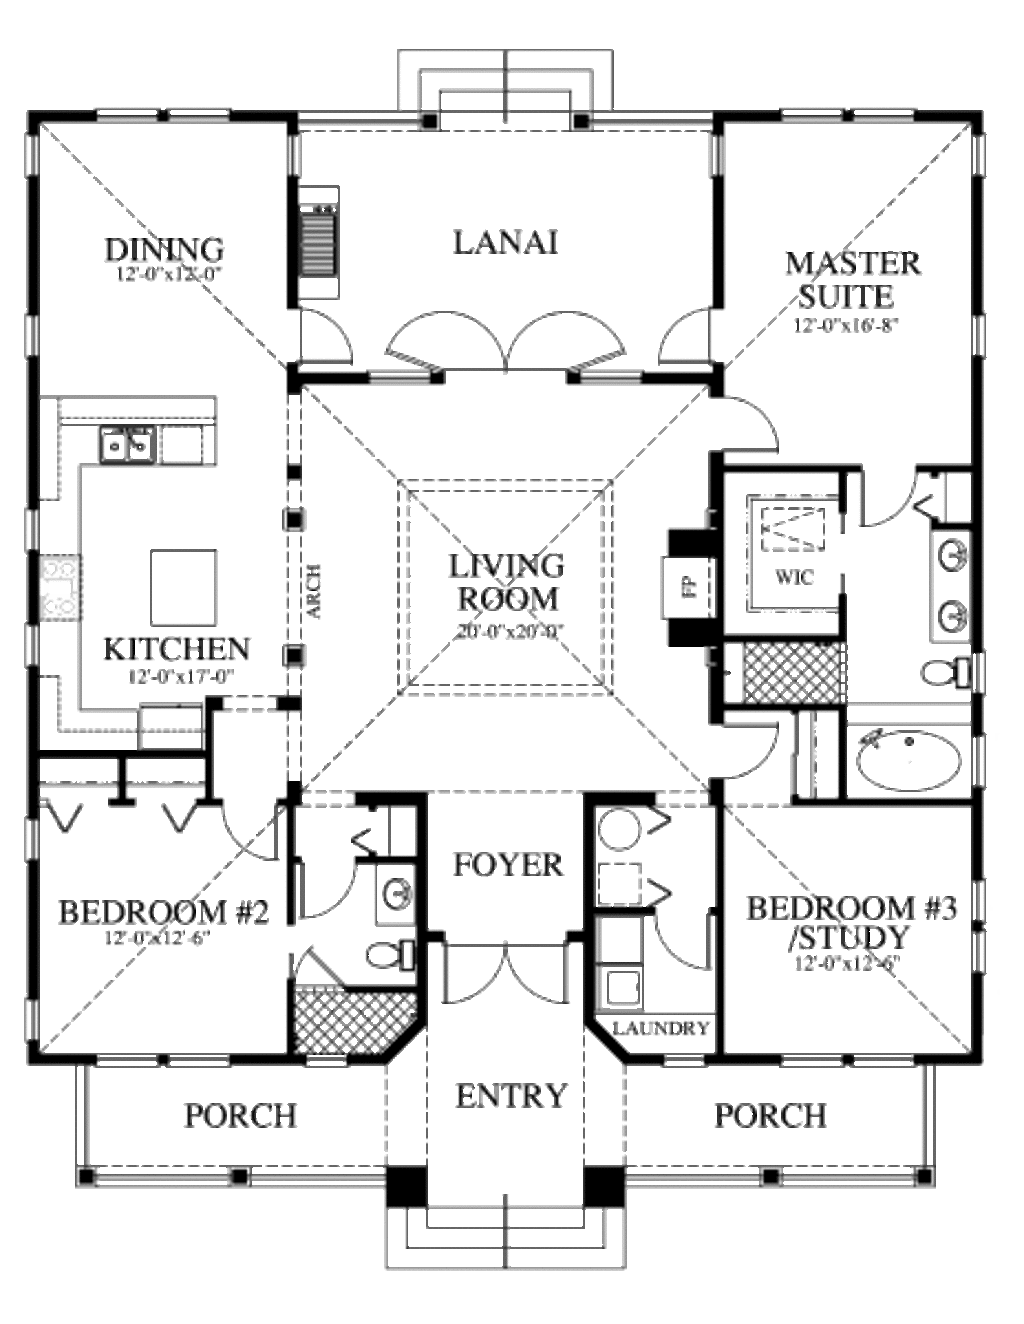door: (387, 301, 631, 384), (438, 940, 572, 1012), (707, 391, 783, 457), (648, 302, 718, 364), (855, 464, 920, 531), (715, 719, 782, 780), (220, 797, 280, 866), (293, 302, 355, 369), (295, 862, 359, 918), (659, 909, 713, 974)
large_sink: (904, 650, 969, 693), (359, 936, 418, 983)
small_sink: (927, 532, 977, 649), (367, 859, 418, 933)
stairs: (391, 46, 624, 143), (384, 1194, 632, 1281)
tub: (846, 725, 969, 801)
twin_sink: (93, 422, 159, 470)
windows: (93, 1045, 231, 1074), (93, 105, 255, 128), (773, 1052, 917, 1073), (775, 105, 915, 126), (965, 879, 991, 981), (21, 805, 46, 864), (20, 994, 45, 1044), (21, 619, 45, 671), (27, 504, 48, 555), (21, 310, 45, 355), (969, 310, 989, 359)
